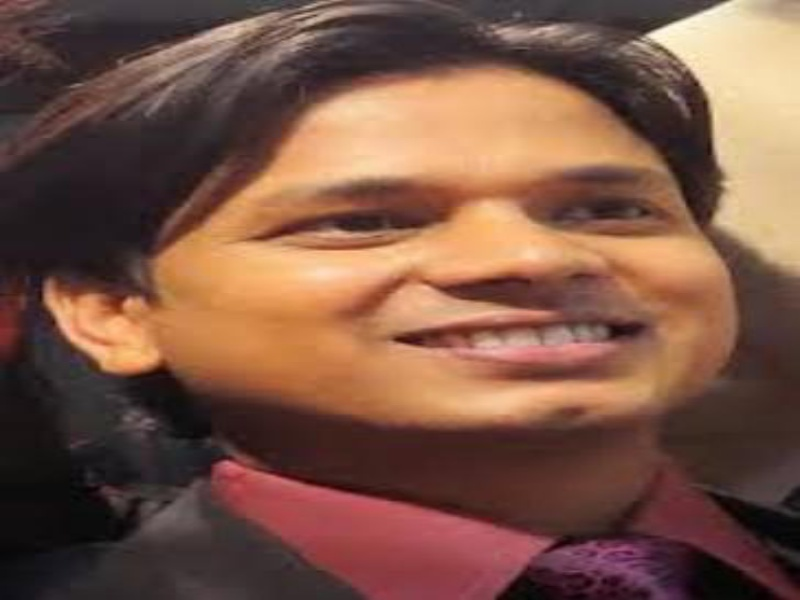TsisyArotava: (24, 4, 759, 504)
